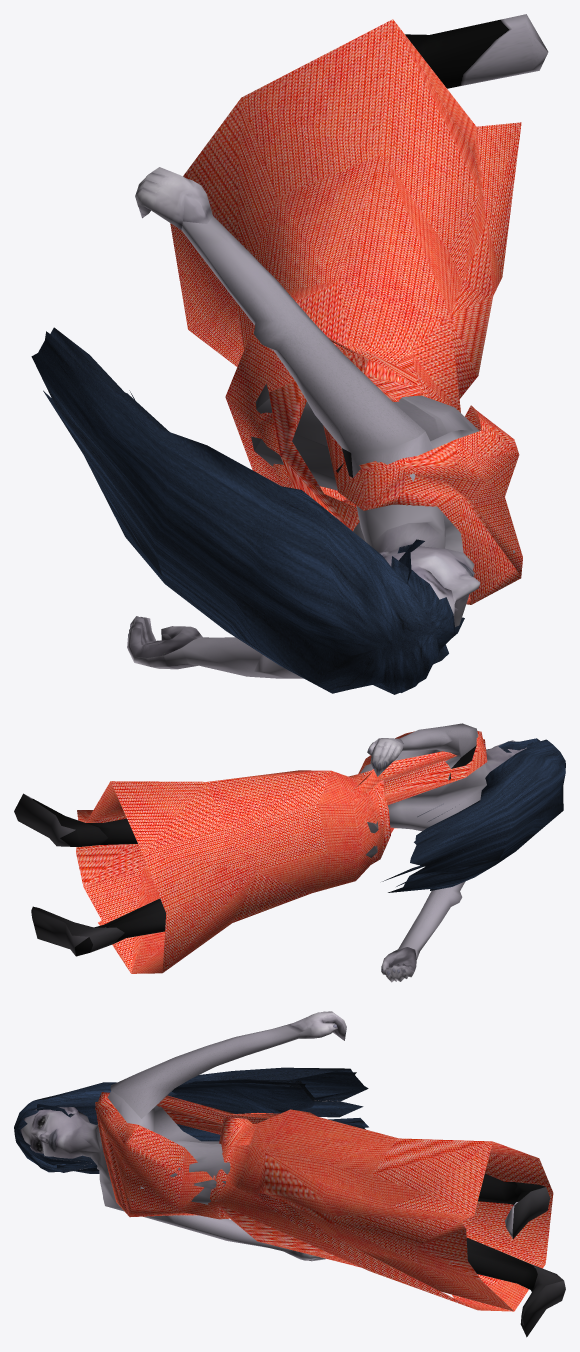
File: sita_000154.obj
3 renders of one model, top to bottom at view 1: azimuth 30°, elevation 25°; view 2: azimuth 150°, elevation 25°; view 3: azimuth 270°, elevation 25°, orthographic. The views are drawn at different scales.
Parts seen in each view (by area): view 1: saree_Cylinder, hair.003_omino.013, body.001_omino.012; view 2: saree_Cylinder, body.001_omino.012, hair.003_omino.013; view 3: saree_Cylinder, body.001_omino.012, hair.003_omino.013.
Boxes of the visible parts, x1=… form: saree_Cylinder: x1=170, y1=19, x2=522, y2=604; hair.003_omino.013: x1=31, y1=327, x2=464, y2=694; body.001_omino.012: x1=127, y1=14, x2=548, y2=678; saree_Cylinder: x1=76, y1=731, x2=487, y2=973; body.001_omino.012: x1=14, y1=723, x2=526, y2=982; hair.003_omino.013: x1=382, y1=738, x2=565, y2=892; saree_Cylinder: x1=95, y1=1092, x2=553, y2=1311; body.001_omino.012: x1=20, y1=1011, x2=565, y2=1337; hair.003_omino.013: x1=14, y1=1067, x2=368, y2=1173.
Bounding box in the file's own units: 1.84 × 1.21 × 2.42.
